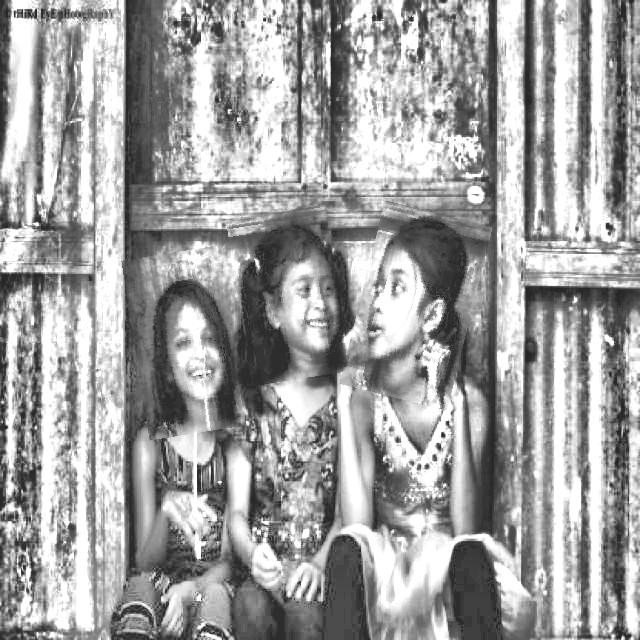happy: (128, 249, 239, 437), (233, 209, 345, 383)
neutral: (349, 206, 482, 405)
